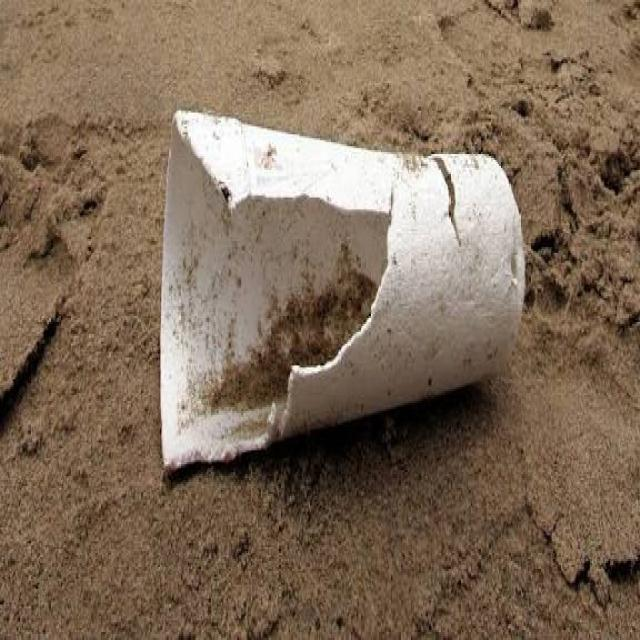styrofoam: (142, 110, 542, 496)
